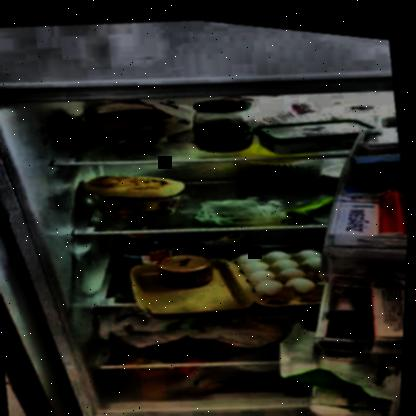cream_cheese: (258, 101, 374, 155)
eggs: (241, 237, 325, 295)
green_chillies: (283, 188, 338, 219)
olives: (239, 150, 325, 194)
onion: (112, 121, 154, 151)
